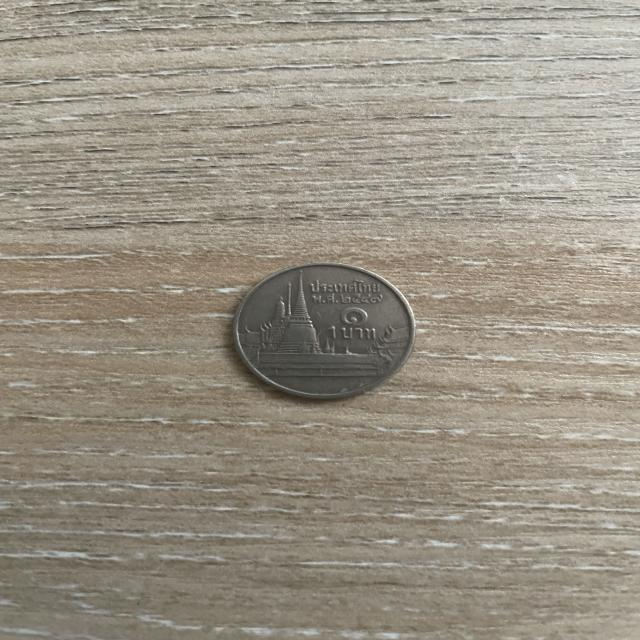1 Bath: (222, 257, 426, 414)
